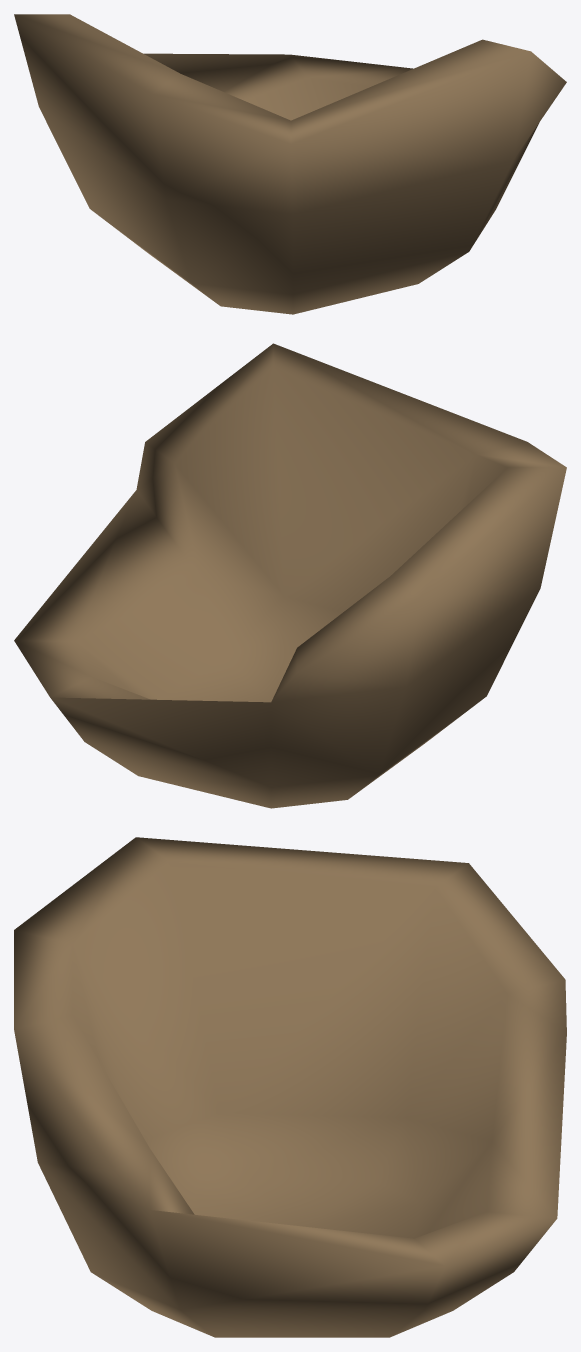
File: rpgpp_av_bowl_wood_02.fbx
3 views of the same model, one above another, from view 1: azimuth 30°, elevation 25°; view 2: azimuth 150°, elevation 25°; view 3: azimuth 270°, elevation 25° (orthographic). The views are drawn at different scales.
Parts seen in each view (by area): view 1: rpgpp_av_bowl_wood_02; view 2: rpgpp_av_bowl_wood_02; view 3: rpgpp_av_bowl_wood_02.
Boxes of the visible parts, left/top/right/bottom form: rpgpp_av_bowl_wood_02: left=14, top=14, right=566, bottom=314; rpgpp_av_bowl_wood_02: left=14, top=343, right=566, bottom=808; rpgpp_av_bowl_wood_02: left=14, top=837, right=566, bottom=1337.
Bounding box in the file's own units: 26.92 × 16.53 × 26.4.
